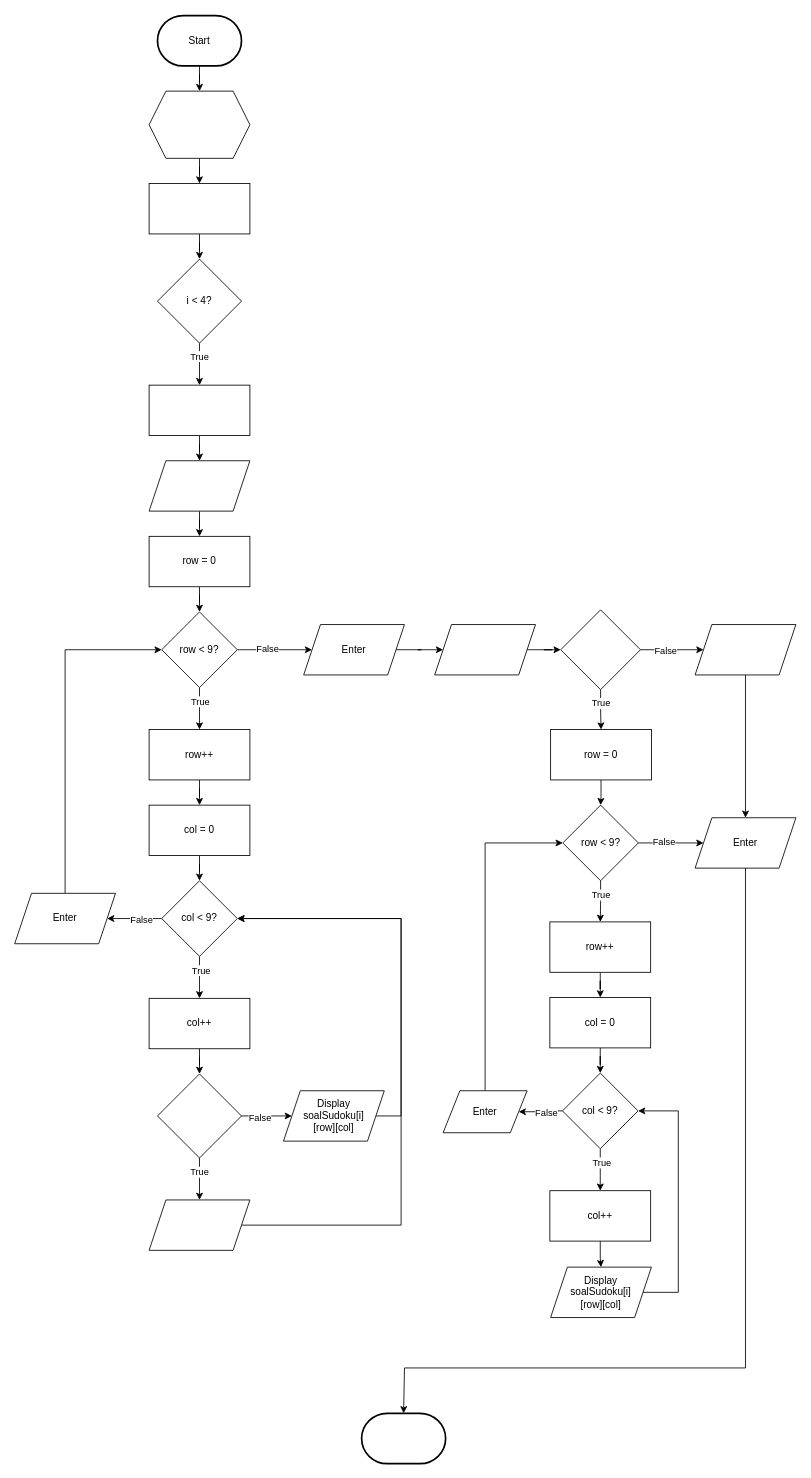
The diagram is 811 pixels wide and 1478 high, and some of its shapes have lost their labels. Each missing label, with the centre of its shape:
Display ". ": pixel 199 1224
Display "No solution Exist.": pixel 745 649
Display "Solved Sudoku i + 1 : ": pixel 485 649
Display "Sudoku Puzzle i + 1 : ": pixel 199 485
End: pixel 403 1438
i = 0: pixel 199 208
i++: pixel 199 410
int i, row, col: pixel 199 124
soalSudoku[i] [row][col] == 0: pixel 199 1115
solveSudoku success?: pixel 600 649
